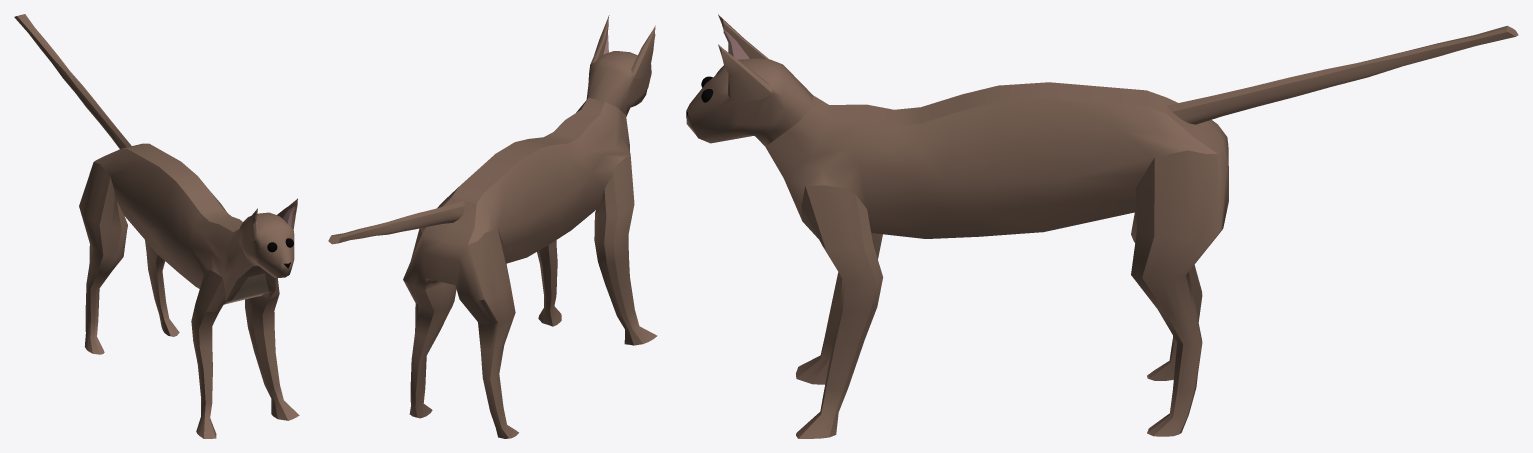
Rendered from CatModelSmall.fbx.
3 renders of one model, left to right at view 1: azimuth 30°, elevation 25°; view 2: azimuth 150°, elevation 25°; view 3: azimuth 270°, elevation 25°, orthographic. The views are drawn at different scales.
Parts seen in each view (by area): view 1: pCube3; view 2: pCube3; view 3: pCube3.
Part boxes in pixels (x1,y1,x2,y2): pCube3: [14, 14, 299, 438]; pCube3: [328, 15, 657, 438]; pCube3: [686, 14, 1518, 438].
Bounding box in the file's own units: 0.1208 × 0.2948 × 0.5865.
